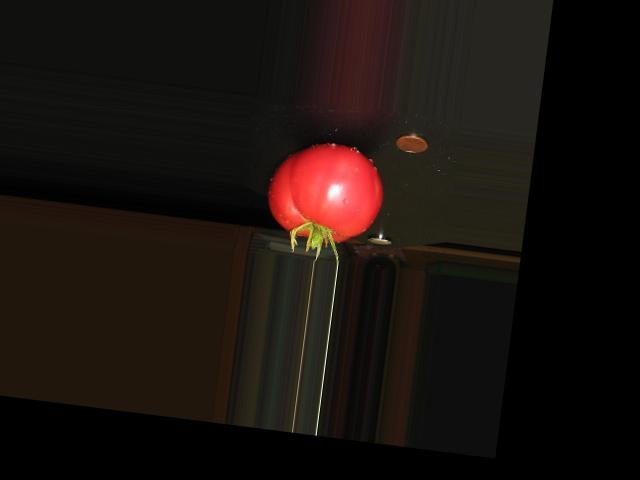tomato: (262, 135, 388, 247)
